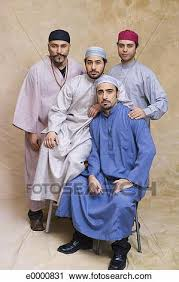middle_eastern_male: (81, 52, 108, 82)
